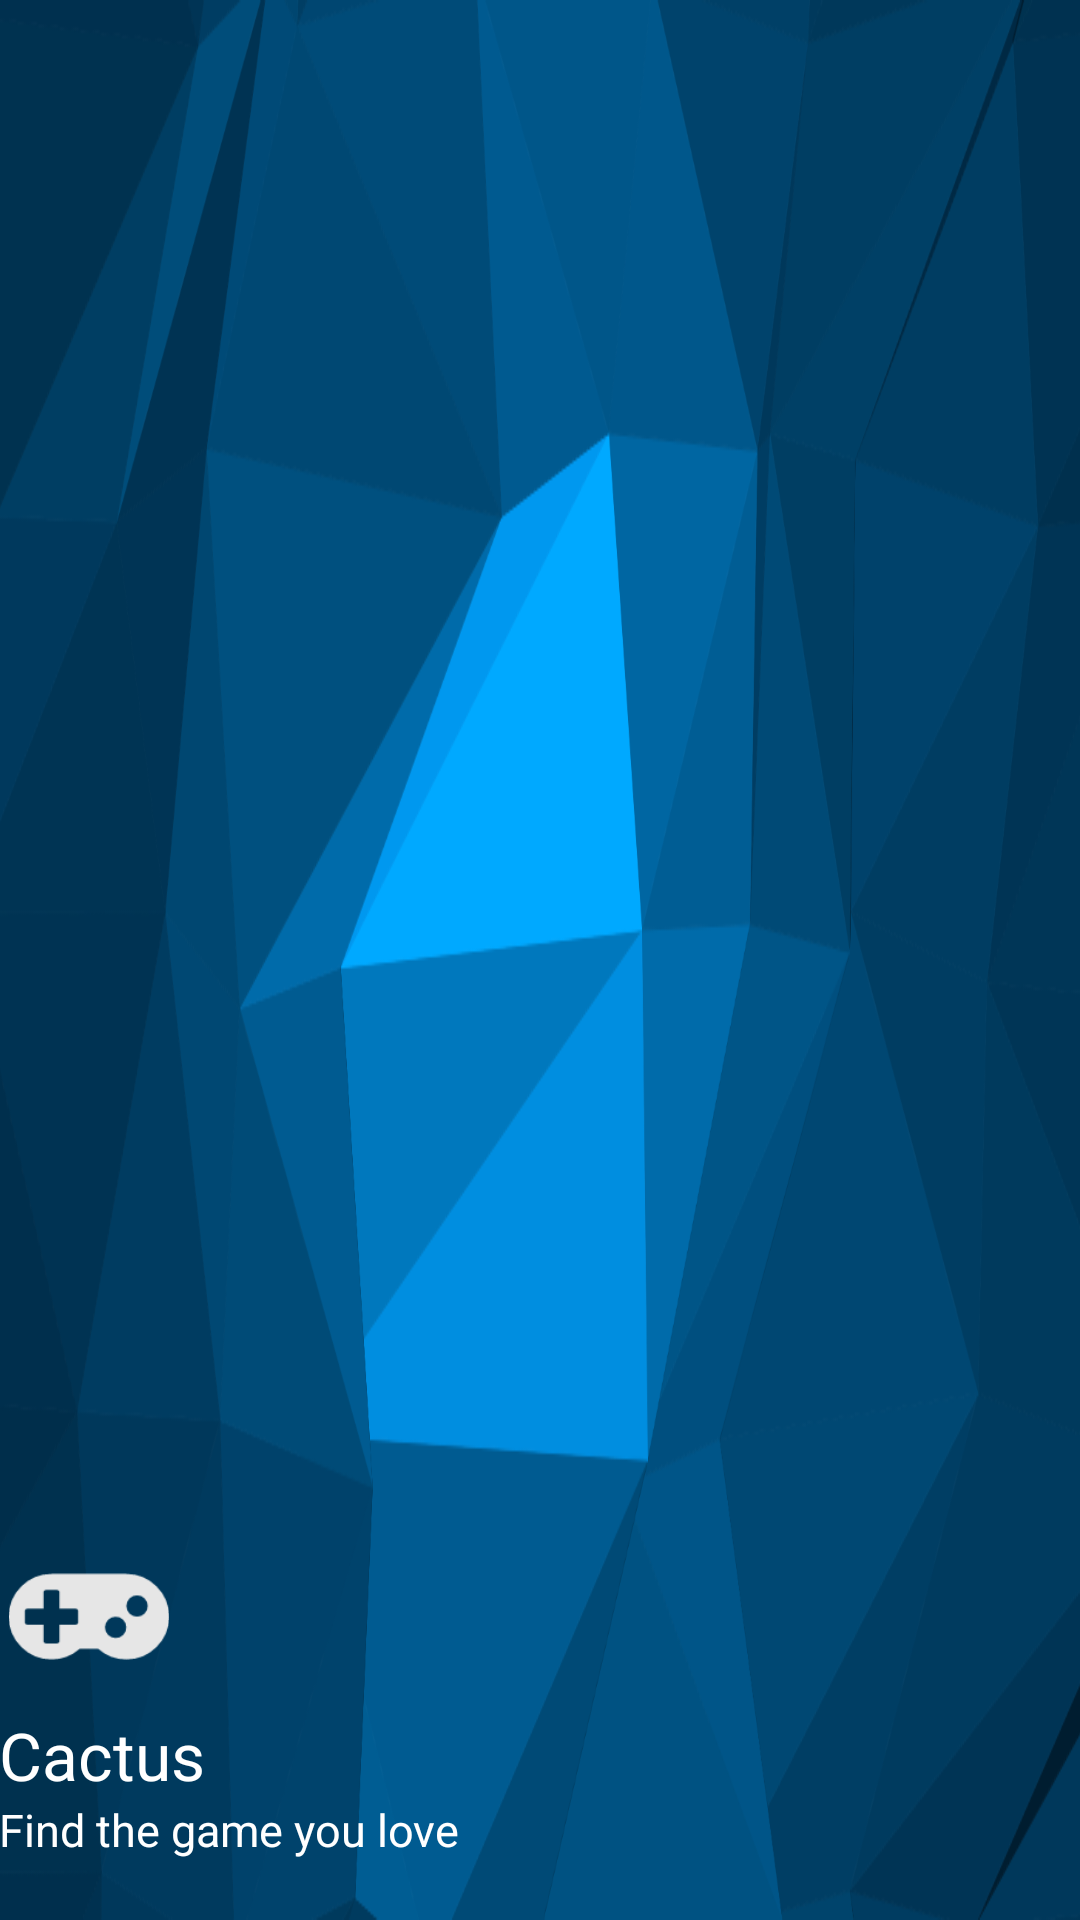

Where to tap for icons on this 1080px×1920px app screen, as [x,y]:
gamepad: [89,1616]
